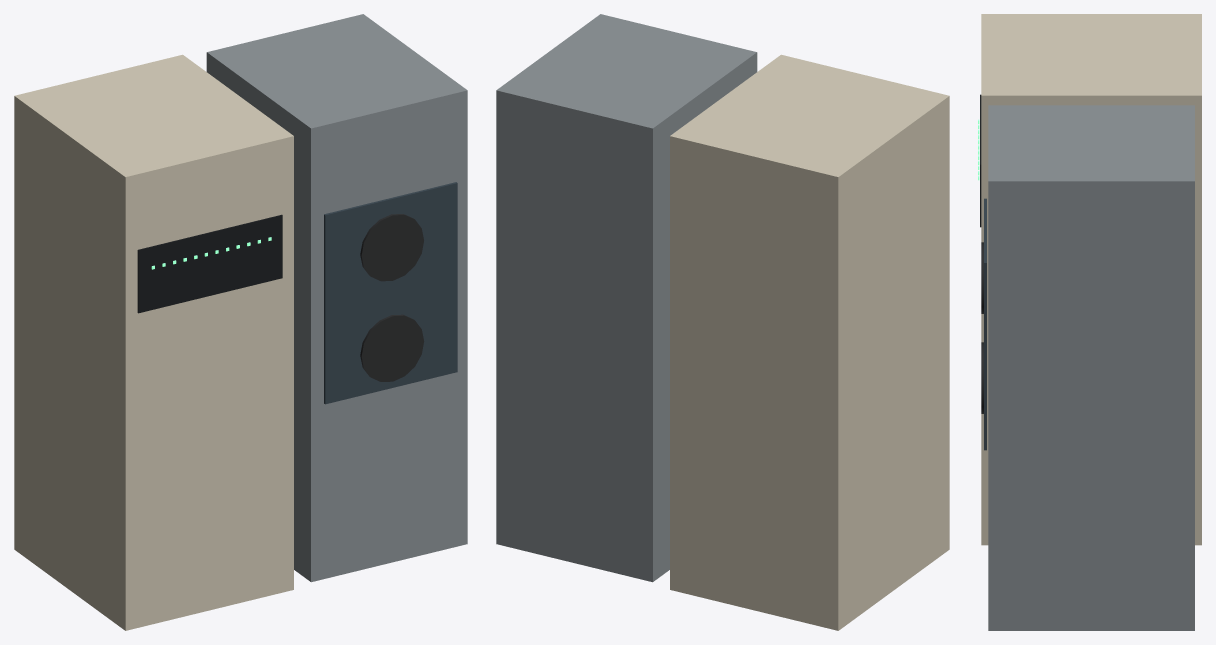
File: host.glb
3 views of the same model, side by side, from view 1: azimuth 30°, elevation 25°; view 2: azimuth 150°, elevation 25°; view 3: azimuth 270°, elevation 25° (orthographic).
Parts seen in each view (by area): view 1: kit-host; view 2: kit-host; view 3: kit-host.
Part boxes in pixels (box(x1,y1,x2,y2)): kit-host: box(14, 14, 467, 630); kit-host: box(496, 14, 949, 630); kit-host: box(980, 14, 1201, 630).
Size of the model in its own units: 1.43 by 1.8 by 0.8119.
